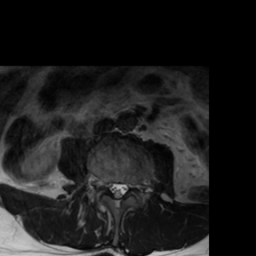CCS_stenosis: (114, 174, 121, 208)
LFS_stenosis: (129, 175, 138, 198)
LLS_normal: (121, 176, 129, 202)
RFS_stenosis: (99, 172, 107, 194)
RLS_normal: (107, 176, 114, 198)
